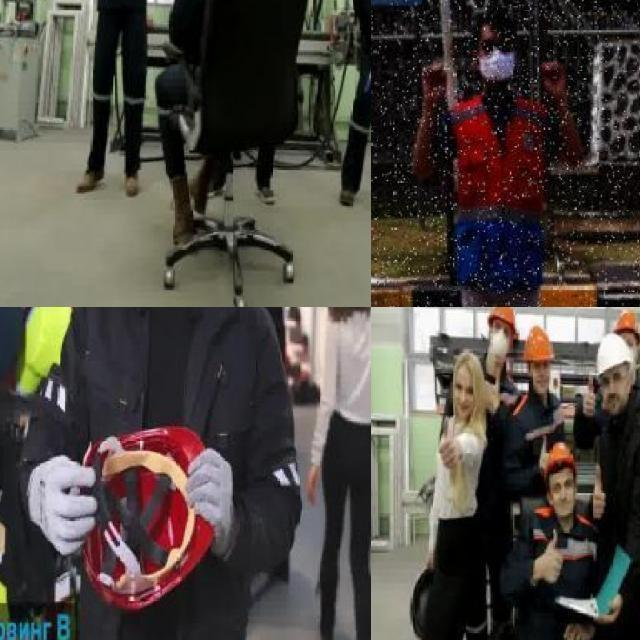apron: (28, 454, 96, 556), (185, 446, 236, 557)
